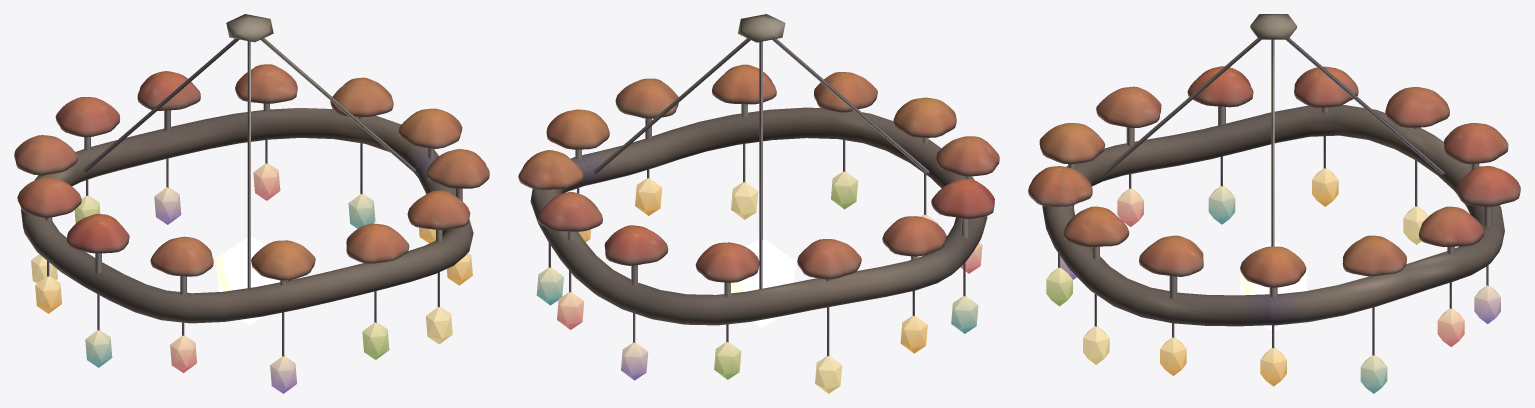
The model's file is spor_avize.glb.
3 renders of one model, left to right at view 1: azimuth 30°, elevation 25°; view 2: azimuth 150°, elevation 25°; view 3: azimuth 270°, elevation 25°, orthographic. The views are drawn at different scales.
Visible parts, largest first — view 1: spor_avize_LOD0; view 2: spor_avize_LOD0; view 3: spor_avize_LOD0.
Boxes of the visible parts, <box> form: spor_avize_LOD0: <box>14,14,489,393</box>; spor_avize_LOD0: <box>518,14,999,393</box>; spor_avize_LOD0: <box>1028,14,1520,393</box>.
Size of what is drawn, in the model's own units: 1.26 by 0.8879 by 1.26.
